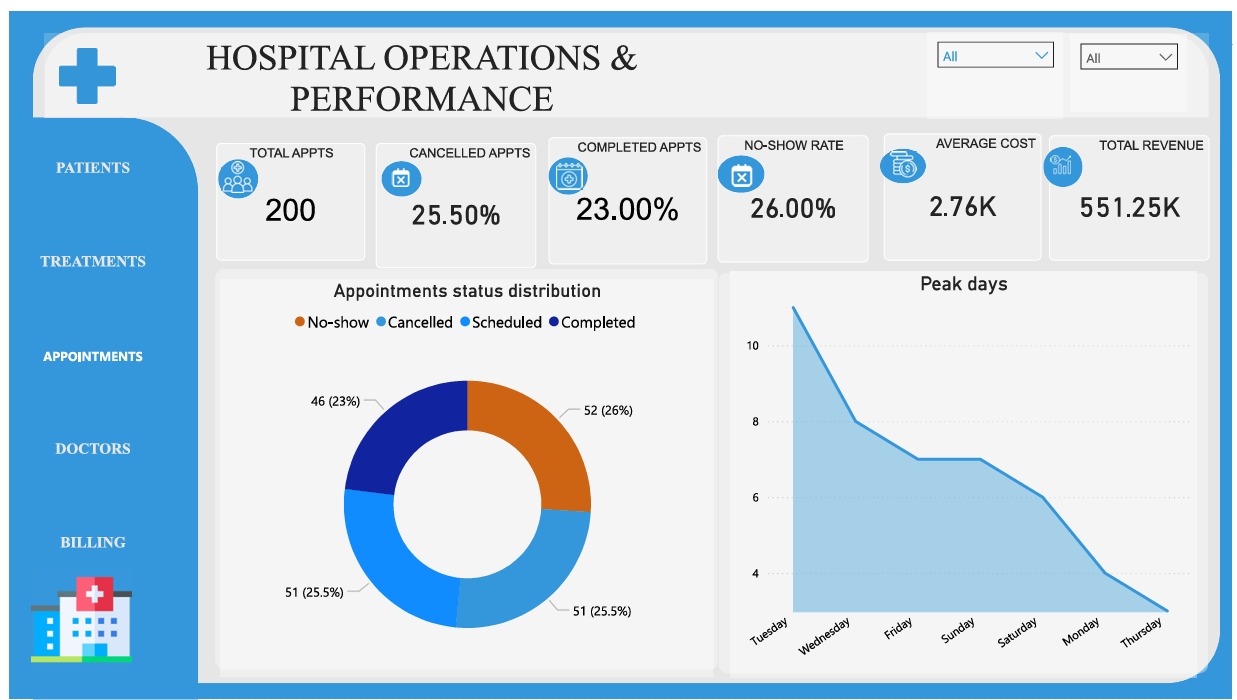

What the dashboard file says about the page in this screenshot:
{"tool":"powerbi","page":{"name":"APPOINTMENTS","canvas":[1280,720],"ordinal":2},"visuals":[{"type":"shape","box":[24.1,15.5,1243.1,686.2],"z":0},{"type":"shape","box":[24.1,110.3,172.4,610.3],"z":1000},{"type":"pageNavigator","box":[0,117.2,174.1,486.2],"z":2000},{"type":"shape","box":[36.2,22.4,1219,87.9],"z":3000},{"type":"textbox","box":[107.8,21.2,647.1,96.3],"z":4000},{"type":"image","box":[51.7,21.7,58.3,90],"z":5000},{"type":"image","box":[0,583.3,150,105],"z":6000},{"type":"shape","box":[215,268.3,526.7,420],"z":7000},{"type":"shape","box":[741.7,271.7,513.3,420],"z":8000},{"type":"donutChart","title":"Appointments status distribution","fields":{"Category":["vw_Fact_Appointments.AppointmentStatus"],"Y":["CountNonNull(vw_Fact_Appointments.AppointmentStatus)"]},"box":[221.2,279.8,515.6,416.4],"z":9000},{"type":"stackedAreaChart","title":"Peak days","fields":{"Category":["vw_Fact_Appointments.DayOfWeek"],"Y":["vw_Fact_Appointments.Completed Appt"]},"box":[755,271.7,488.3,425],"z":10000},{"type":"card","title":"TOTAL APPTS","fields":{"Values":["CountNonNull(vw_Fact_Appointments.appointment_id)"]},"box":[215.7,136.7,156,123.3],"z":11000},{"type":"card","title":"CANCELLED APPTS","fields":{"Values":["vw_Fact_Appointments.Cancellation Rate"]},"box":[383.2,136.7,167.5,131],"z":12000},{"type":"card","title":"COMPLETED APPTS","fields":{"Values":["vw_Fact_Appointments.Completion Rate"]},"box":[564.3,131,165.6,132.9],"z":13000},{"type":"card","title":"NO-SHOW RATE","fields":{"Values":["vw_Fact_Appointments.No Show Rate"]},"box":[741.4,129,157.9,132.9],"z":14000},{"type":"card","title":"AVERAGE COST","fields":{"Values":["Avg(vw_Billing.BillingAmount)"]},"box":[914.8,127.1,165.6,132.9],"z":15000},{"type":"card","title":"TOTAL REVENUE  ","fields":{"Values":["Sum(vw_Billing.BillingAmount)"]},"box":[1088.1,129,167.5,131],"z":16000},{"type":"shape","box":[217.6,154.1,42.4,40.4],"z":17000},{"type":"image","box":[221.5,156,34.7,32.7],"z":18000},{"type":"shape","box":[389,156,42.4,36.6],"z":19000},{"type":"image","box":[392.9,163.7,32.7,19.3],"z":20000},{"type":"shape","box":[564.3,152.1,40.4,38.5],"z":21000},{"type":"image","box":[566.2,157.9,38.5,27],"z":22000},{"type":"shape","box":[741.4,150.2,48.1,38.5],"z":23000},{"type":"image","box":[754.9,156,23.1,28.9],"z":24000},{"type":"shape","box":[910.9,142.5,48.1,36.6],"z":25000},{"type":"image","box":[920.5,146.4,28.9,27],"z":26000},{"type":"shape","box":[1082.3,140.6,40.4,42.4],"z":27000},{"type":"image","box":[1090,144.4,21.2,30.8],"z":28000},{"type":"slicer","fields":{"Values":["vw_Fact_Appointments.AppointmentStatus"]},"box":[961.3,21.1,141.5,89.5],"z":29000},{"type":"slicer","fields":{"Values":["vw_Fact_Appointments.DayOfWeek"]},"box":[1110.9,22.8,122,81.3],"z":30001}]}

Visuals, with their boxes in screenshot pixels (x1, y1, x2, y2), scaled from the page's 1280x720 canvas onto the 1237x700 screenshot:
shape: [23, 15, 1225, 682]
shape: [23, 107, 190, 699]
pageNavigator: [0, 114, 168, 587]
shape: [35, 22, 1213, 107]
textbox: [104, 21, 730, 114]
image: [50, 21, 106, 109]
image: [0, 567, 145, 669]
shape: [208, 261, 717, 669]
shape: [717, 264, 1213, 672]
"Appointments status distribution" donutChart: [214, 272, 712, 677]
"Peak days" stackedAreaChart: [730, 264, 1202, 677]
"TOTAL APPTS" card: [208, 133, 359, 253]
"CANCELLED APPTS" card: [370, 133, 532, 260]
"COMPLETED APPTS" card: [545, 127, 705, 257]
"NO-SHOW RATE" card: [716, 125, 869, 255]
"AVERAGE COST" card: [884, 124, 1044, 253]
"TOTAL REVENUE  " card: [1052, 125, 1213, 253]
shape: [210, 150, 251, 189]
image: [214, 152, 248, 183]
shape: [376, 152, 417, 187]
image: [380, 159, 411, 178]
shape: [545, 148, 584, 185]
image: [547, 154, 584, 180]
shape: [716, 146, 763, 183]
image: [730, 152, 752, 180]
shape: [880, 139, 927, 174]
image: [890, 142, 918, 169]
shape: [1046, 137, 1085, 178]
image: [1053, 140, 1074, 170]
slicer - vw_Fact_Appointments.AppointmentStatus: [929, 21, 1066, 108]
slicer - vw_Fact_Appointments.DayOfWeek: [1074, 22, 1191, 101]
